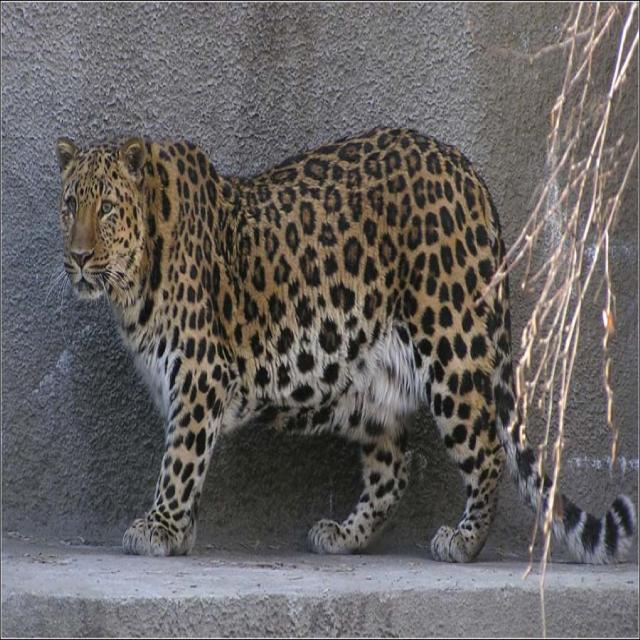Leopard: (53, 120, 637, 566)
